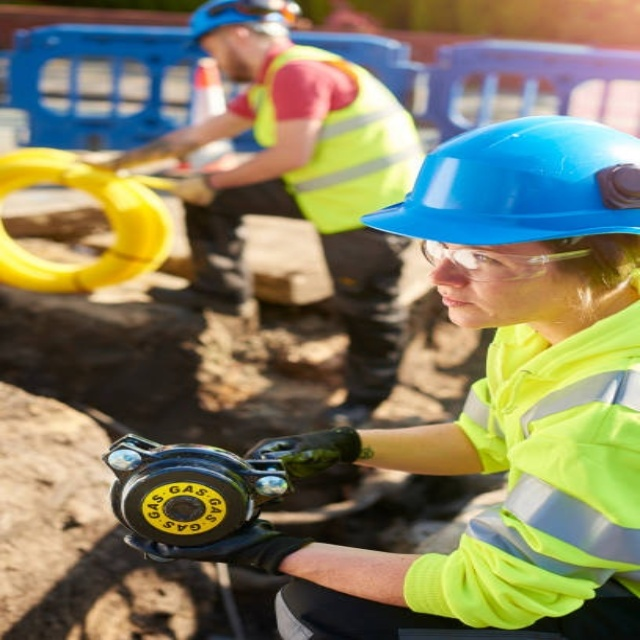Gafas: (419, 237, 590, 282)
Guantes: (118, 520, 318, 577), (243, 425, 365, 478)
Sin_mascara: (435, 287, 500, 326)
